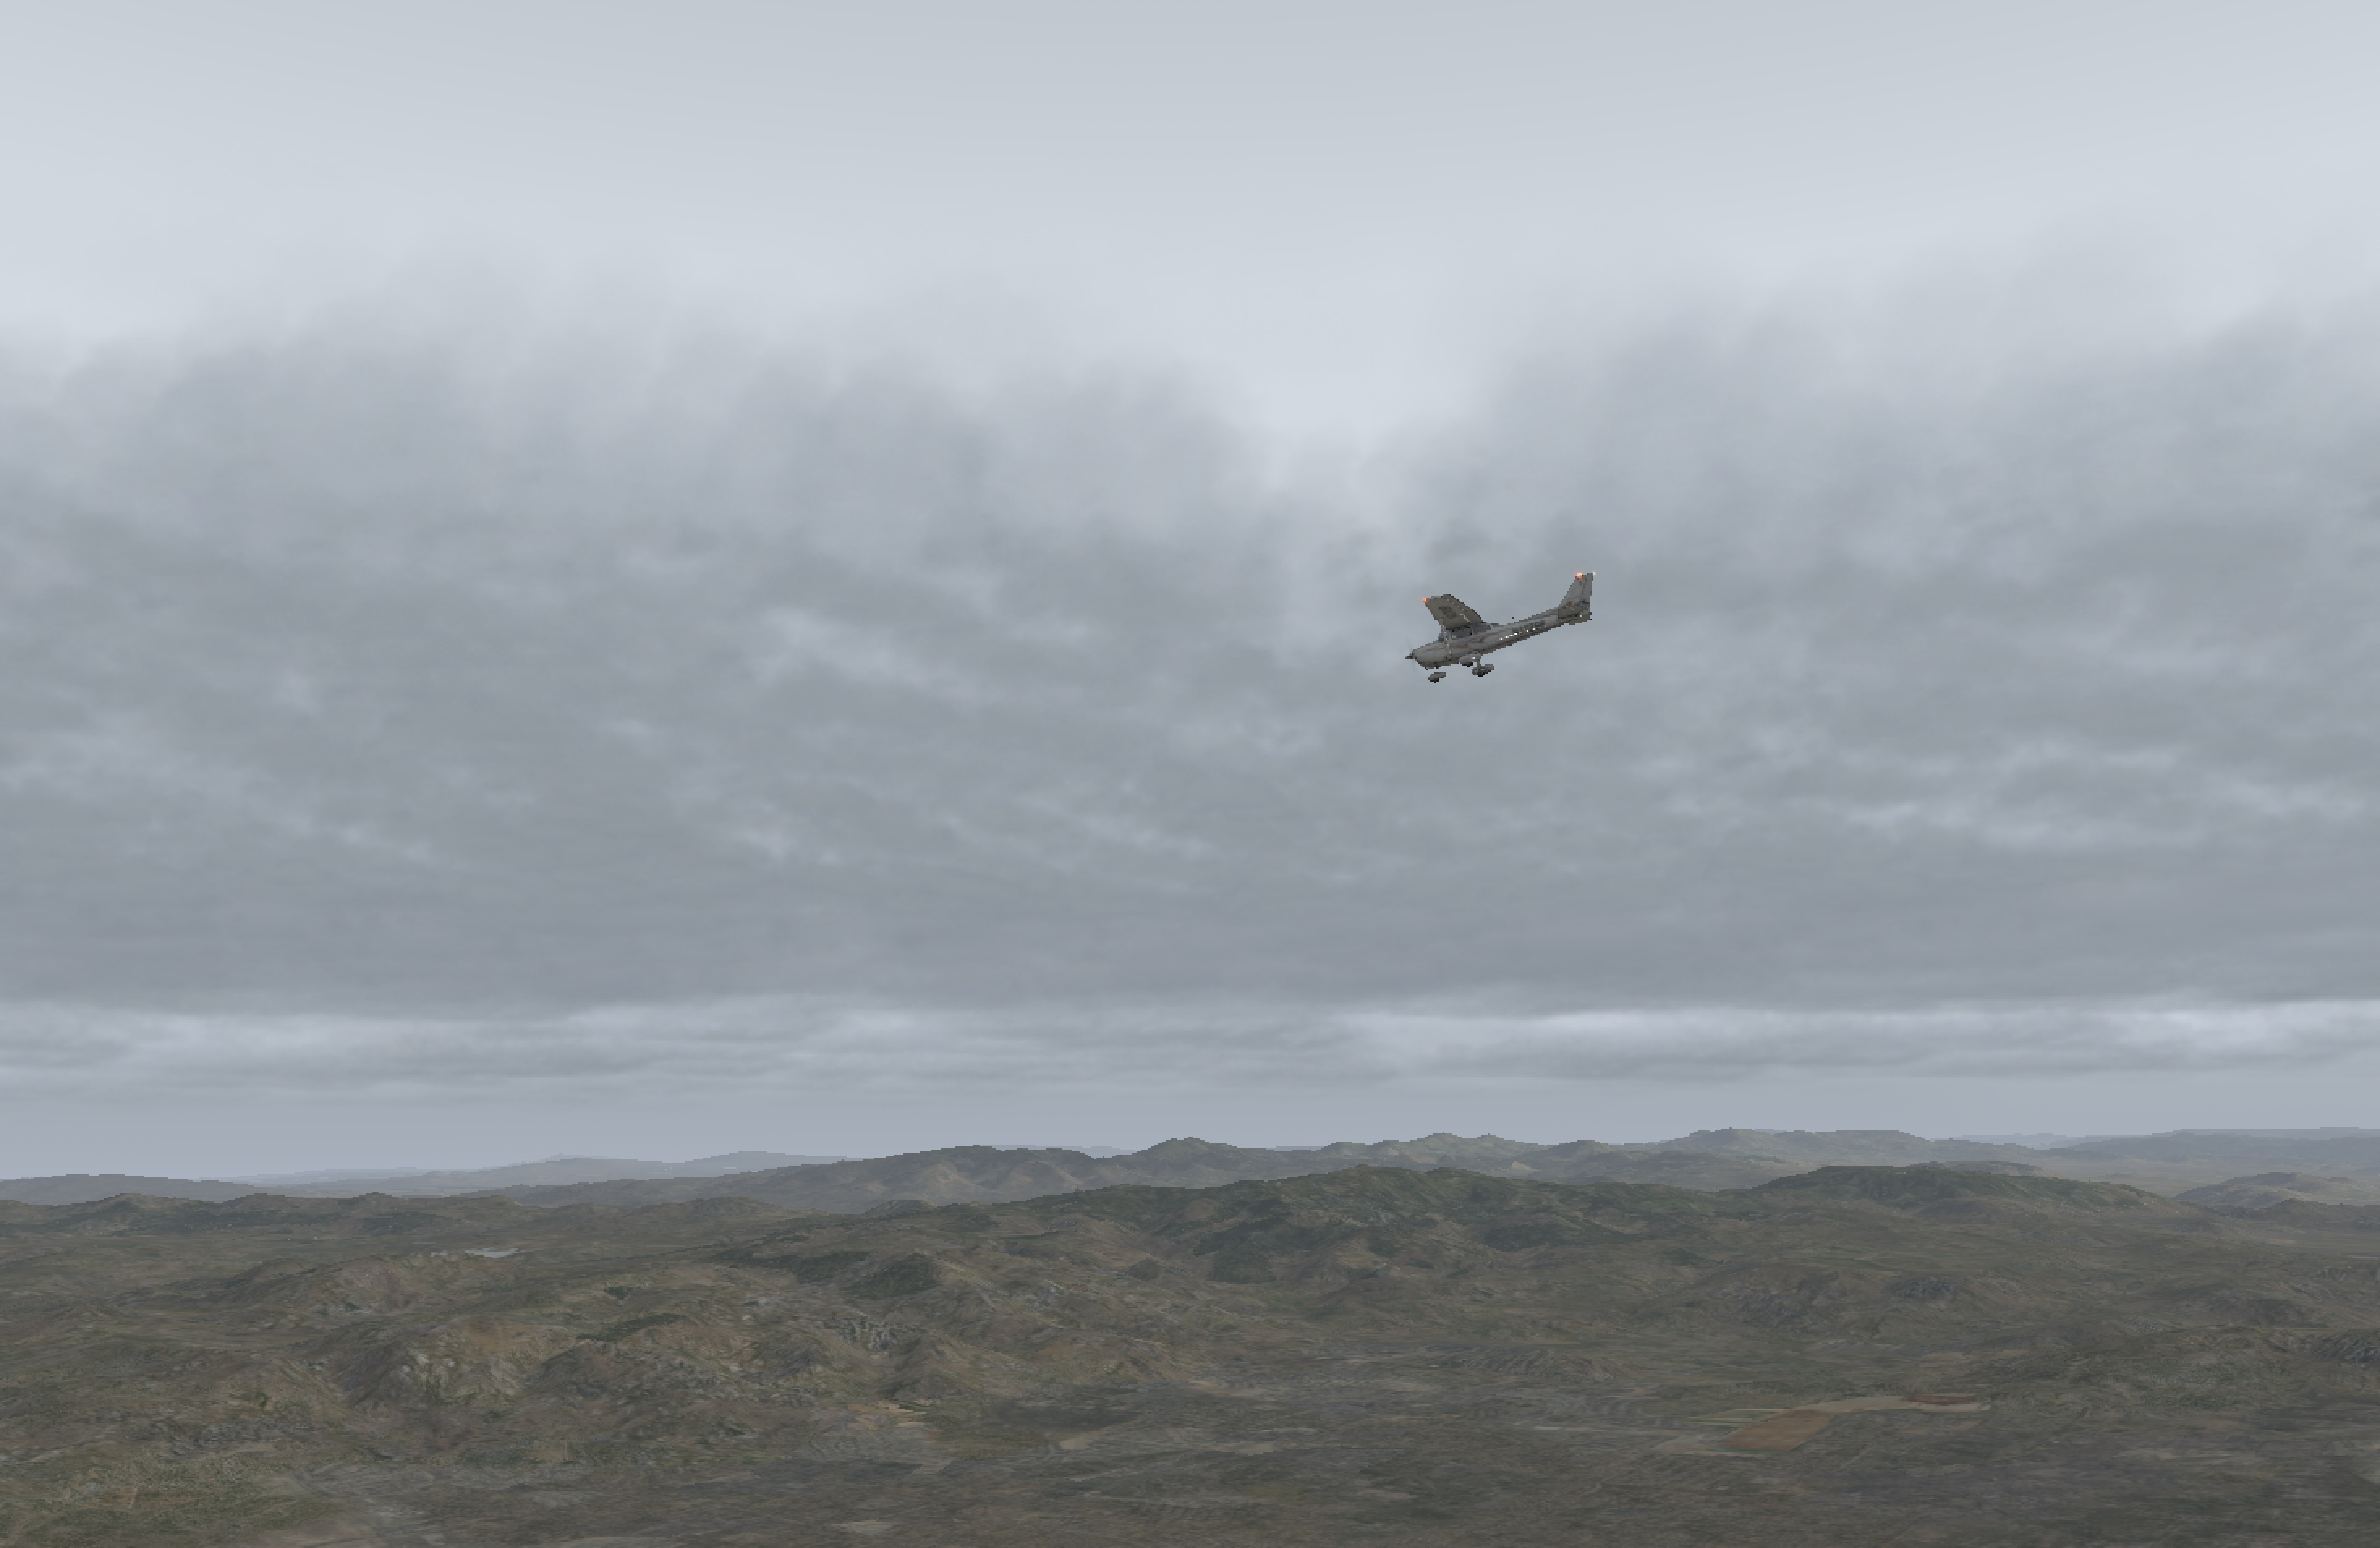aircraft: (1367, 606, 1556, 677)
